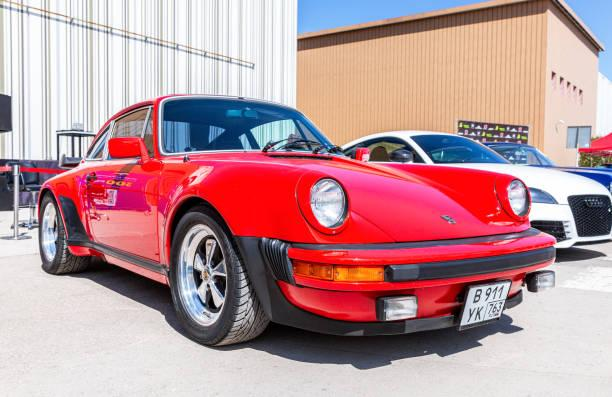porsche: (434, 209, 460, 229)
